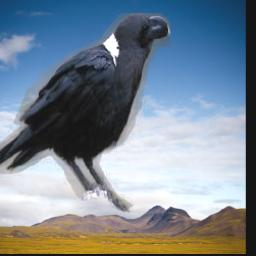Crow: (0, 14, 170, 214)
